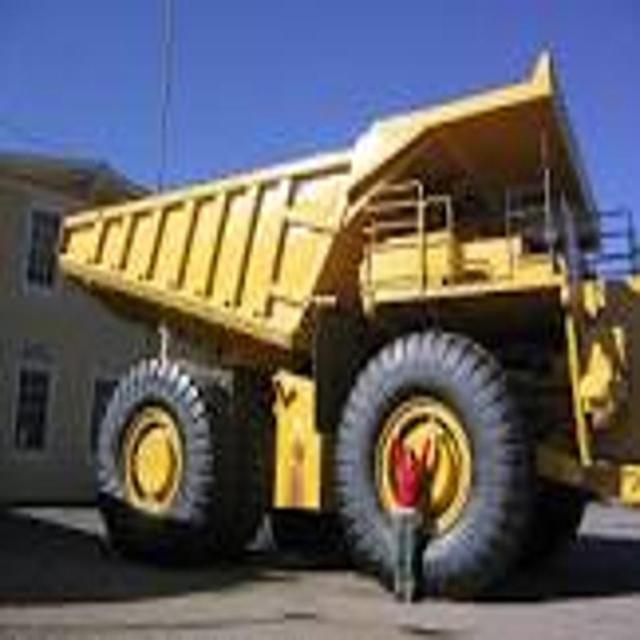dump_truck: (61, 45, 640, 590)
